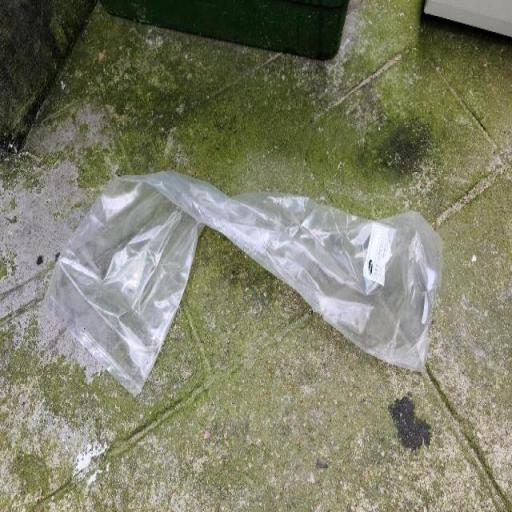plastic-bag: (41, 168, 446, 402)
